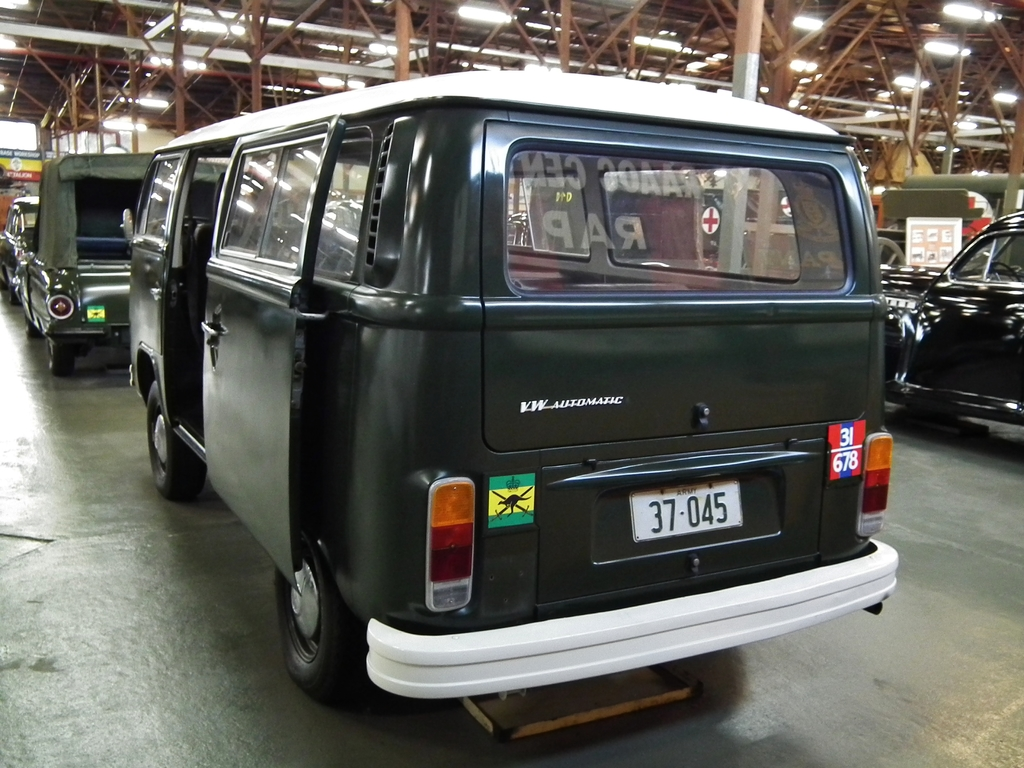Car: (14, 148, 229, 375), (890, 213, 1023, 435), (0, 193, 40, 302), (506, 210, 531, 247)
